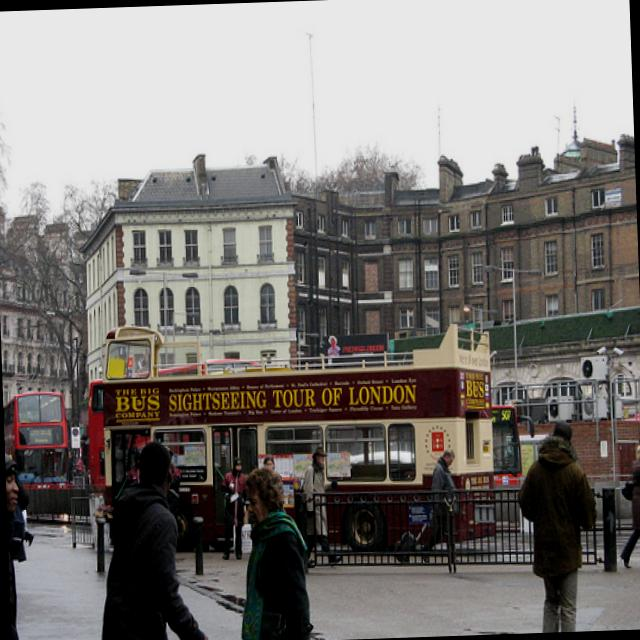Vehicle: (86, 315, 499, 567), (2, 391, 68, 478), (490, 404, 538, 523)
